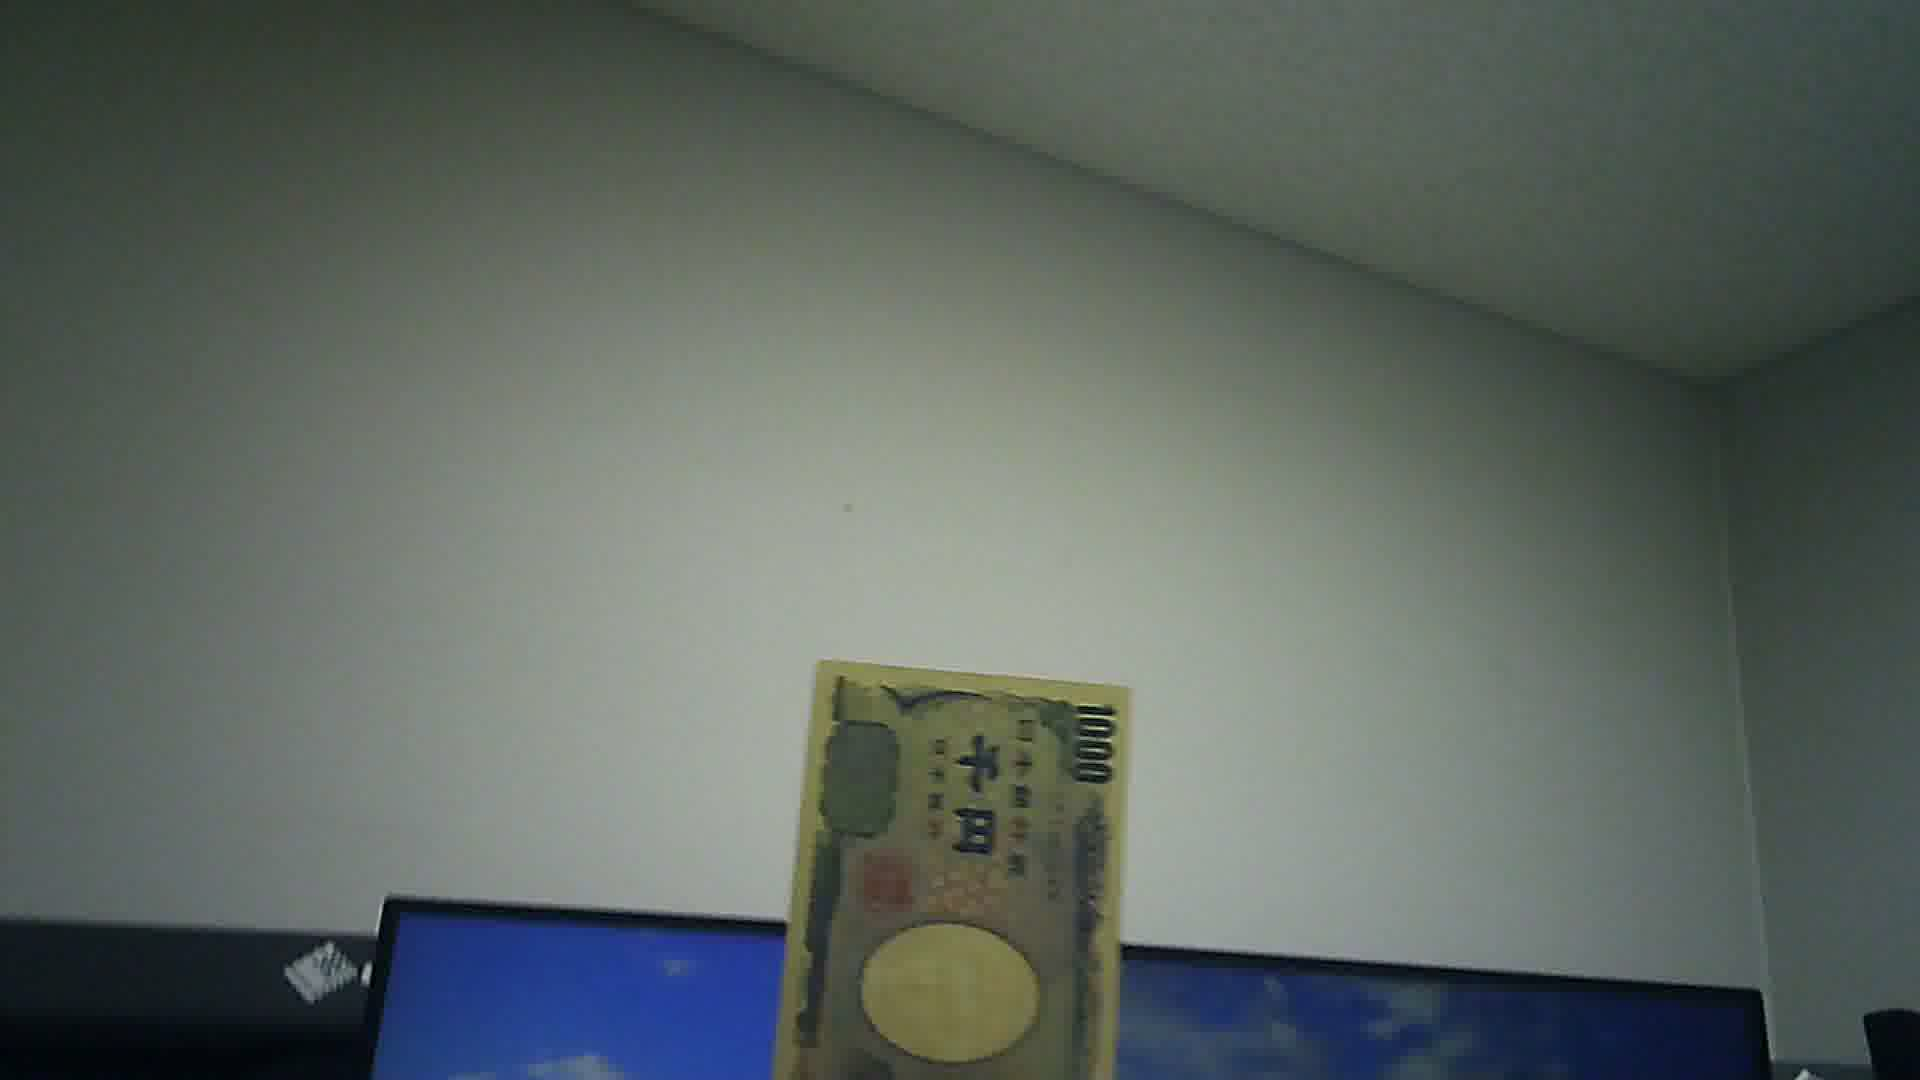1,000 Yen: (782, 659, 1130, 1079)
